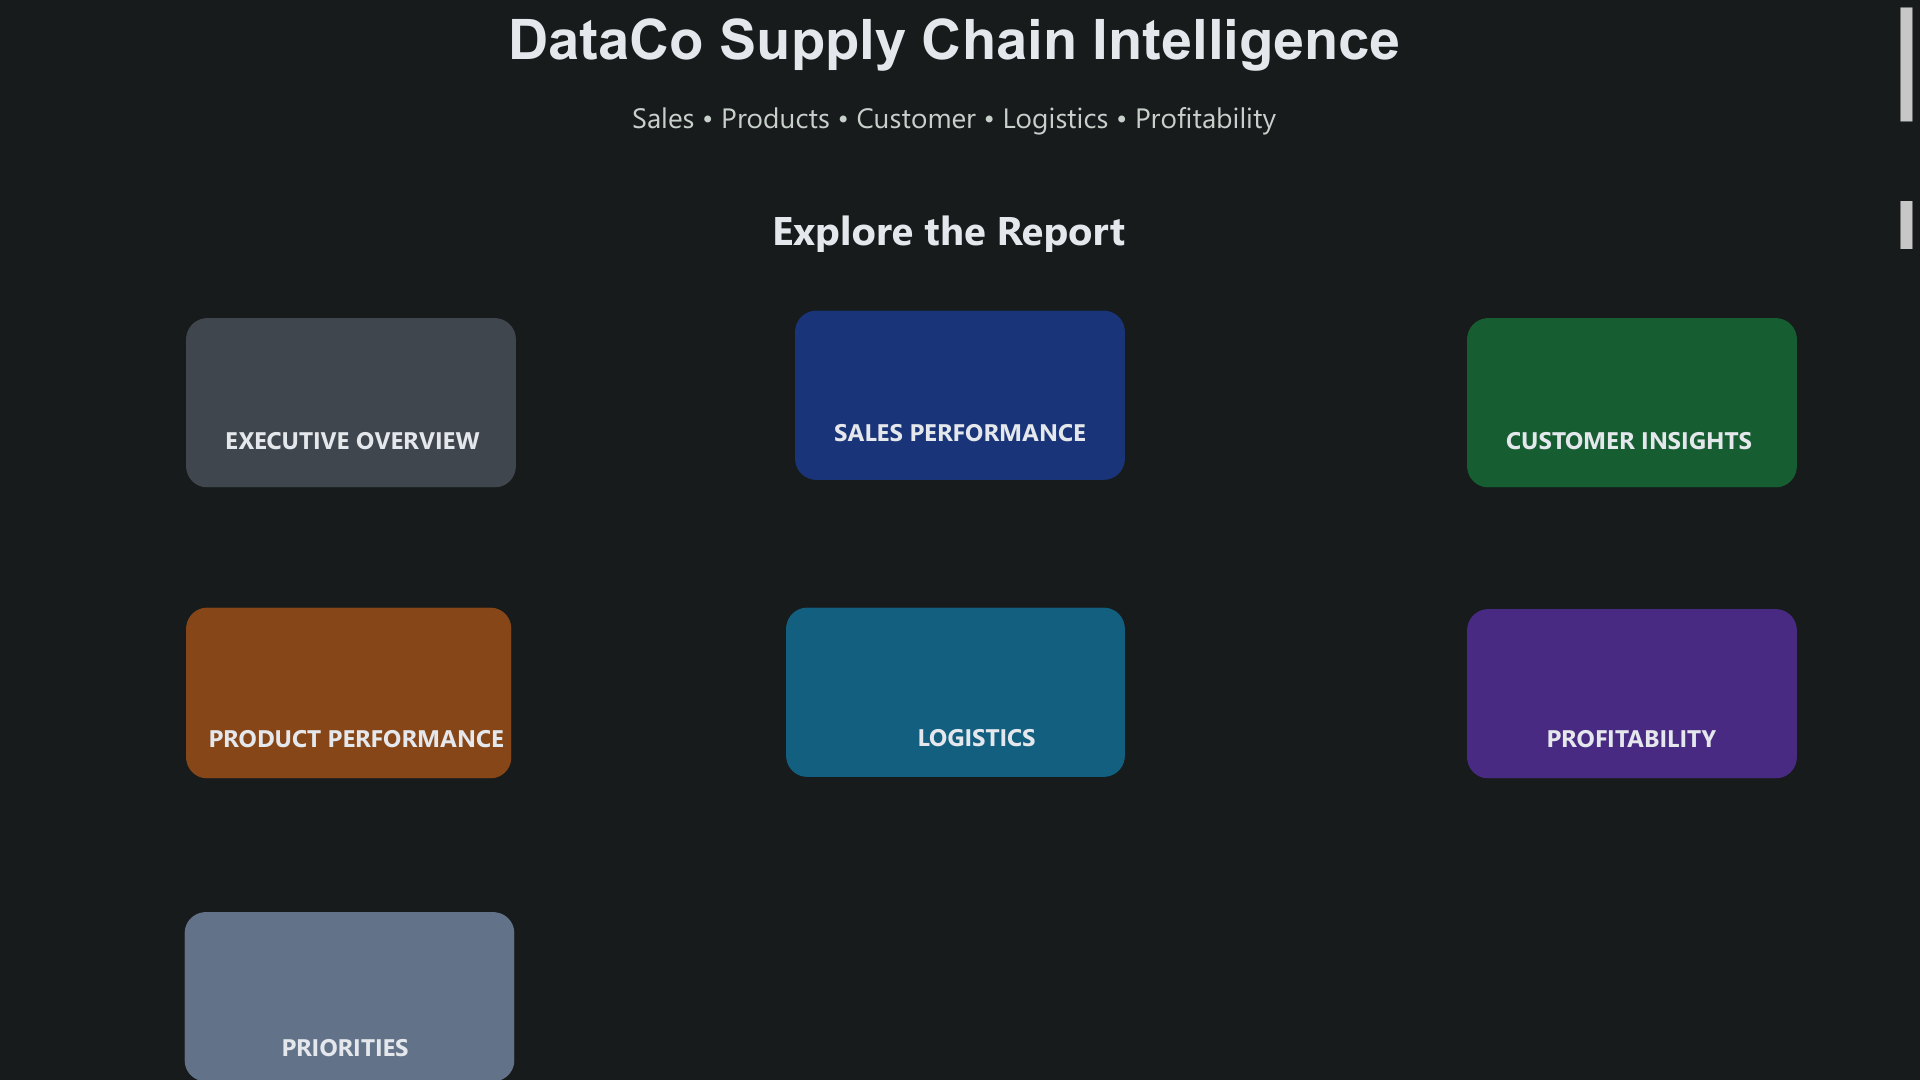

Layout of this report page (visuals, bound fields, positions):
{"tool":"powerbi","page":{"name":"Navigation","canvas":[1280,720],"ordinal":0},"visuals":[{"type":"textbox","box":[0,0,1280,117.5],"z":0},{"type":"textbox","box":[0,128.8,1280,43.8],"z":1000},{"type":"group","id":"g1","title":"Group 2","box":[530.4,207.3,220,112.5],"z":2000},{"type":"actionButton","box":[124.1,211.5,220,112.5],"z":2000,"group":"g6"},{"type":"actionButton","box":[530.4,207.3,220,112.5],"z":3000,"group":"g1"},{"type":"group","id":"g2","title":"Group 3","box":[977.9,211.5,220,112.5],"z":3000},{"type":"actionButton","box":[977.9,211.5,220,112.5],"z":4000,"group":"g2"},{"type":"group","id":"g3","title":"Group 4","box":[523.8,405,226.2,118.8],"z":4000},{"type":"actionButton","box":[123.8,405,216.6,114.1],"z":5000,"group":"g5"},{"type":"group","id":"g4","title":"Group 5","box":[977.5,406.2,220,117.5],"z":5000},{"type":"group","id":"g5","title":"Group 6","box":[123.8,405,217.5,118.8],"z":6000},{"type":"actionButton","box":[977.5,406.2,220,112.5],"z":6000,"group":"g4"},{"type":"shape","box":[770,141.2,30,31.2],"z":7000},{"type":"actionButton","box":[523.8,405,225.7,112.9],"z":7000,"group":"g3"},{"type":"actionButton","box":[122.5,607.5,220,112.5],"z":7000,"group":"g7"},{"type":"textbox","box":[551.6,272.3,198.8,47.5],"z":7008,"group":"g1"},{"type":"textbox","box":[999.1,276.5,198.8,47.5],"z":7009,"group":"g2"},{"type":"textbox","box":[134.1,476.1,207.2,47.6],"z":7010,"group":"g5"},{"type":"textbox","box":[987.5,476.2,198.8,47.5],"z":7011,"group":"g4"},{"type":"textbox","box":[551.4,475.4,198.8,47.5],"z":7012,"group":"g3"},{"type":"group","id":"g6","title":"Group 1","box":[124.1,211.5,220,112.5],"z":8000},{"type":"textbox","box":[145.3,276.5,198.8,47.5],"z":9000,"group":"g6"},{"type":"group","id":"g7","title":"Group 7","box":[122.5,607.5,220,112.5],"z":9000},{"type":"textbox","box":[130,681.3,198.8,38.8],"z":13000,"group":"g7"}]}

Visuals, with their boxes in screenshot pixels (x1, y1, x2, y2), scaled from the page's 1280x720 canvas onto the 1920x1080 screenshot:
textbox: [0, 0, 1919, 176]
textbox: [0, 193, 1919, 259]
"Group 2" group: [796, 311, 1126, 480]
actionButton: [186, 317, 516, 486]
actionButton: [796, 311, 1126, 480]
"Group 3" group: [1467, 317, 1797, 486]
actionButton: [1467, 317, 1797, 486]
"Group 4" group: [786, 608, 1125, 786]
actionButton: [186, 608, 511, 779]
"Group 5" group: [1466, 609, 1796, 786]
"Group 6" group: [186, 608, 512, 786]
actionButton: [1466, 609, 1796, 778]
shape: [1155, 212, 1200, 259]
actionButton: [786, 608, 1124, 777]
actionButton: [184, 911, 514, 1079]
textbox: [827, 408, 1126, 480]
textbox: [1499, 415, 1797, 486]
textbox: [201, 714, 512, 786]
textbox: [1481, 714, 1779, 786]
textbox: [827, 713, 1125, 784]
"Group 1" group: [186, 317, 516, 486]
textbox: [218, 415, 516, 486]
"Group 7" group: [184, 911, 514, 1079]
textbox: [195, 1022, 493, 1079]
